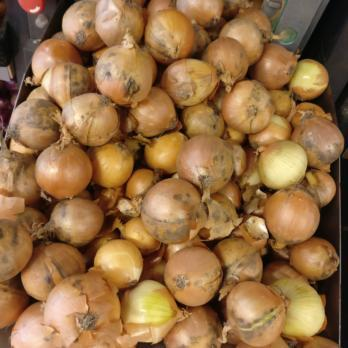Onion: (4, 150, 337, 348), (69, 1, 266, 146), (272, 41, 334, 150), (16, 38, 69, 153)
